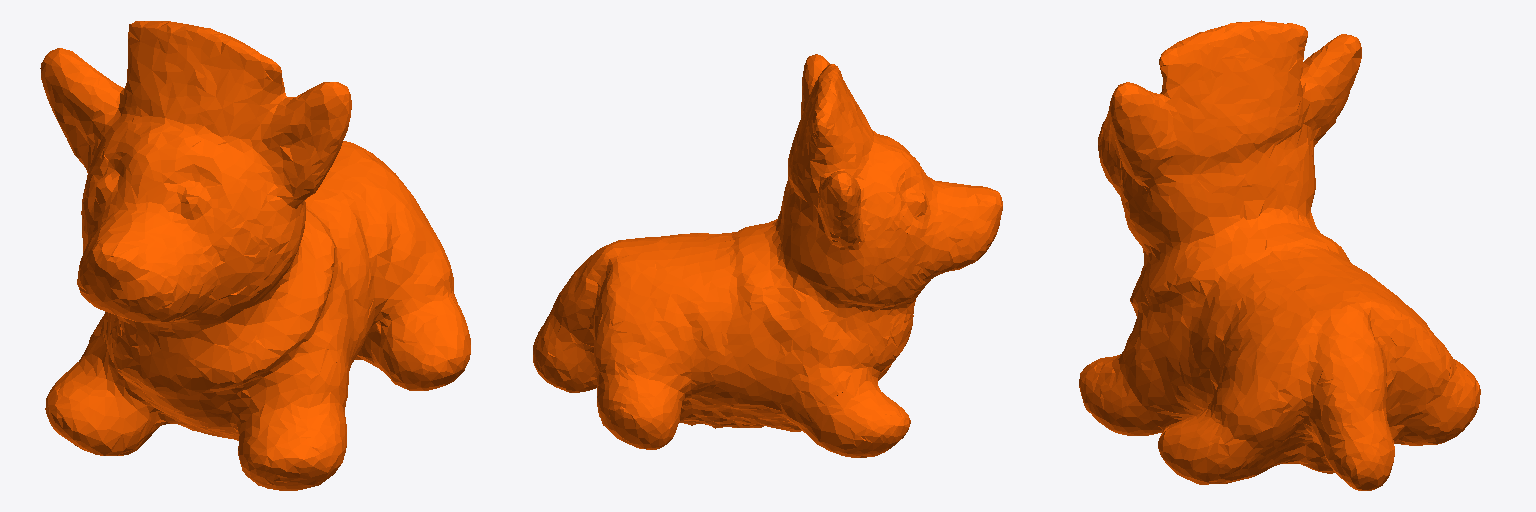
URDF robot description (plush_toy_of_a_corgi_nurse_1step_large):
<?xml version="1.0" ?>
<robot name="plush_toy_of_a_corgi_nurse_1step_large">
   <material name="obj_color">
      <color rgba="1.0 0.423529411765 0.0392156862745 1.0"/>
   </material>
   <link name="top">
      <inertial>
         <origin rpy="5.121196754117236e-05 0.0001002935678831563 0.0001108019187865737" xyz="-0.002624167978298707 -0.004261710834208724 -0.01058669988307594"/>
         <mass value="0.1389126919329817"/>
         <inertia ixx="7.775188894483088e-05" ixy="-1.881205482242938e-05" ixz="2.018438600262651e-05" iyy="0.0001000713763484889" iyz="1.092497412435425e-05" izz="8.448418891758256e-05"/>
      </inertial>
      <visual>
         <origin rpy="0 0 0" xyz="0 0 0"/>
         <geometry>
            <mesh filename="top_watertight_tiny.stl" scale="1 1 1"/>
         </geometry>
         <material name="obj_color"/>
      </visual>
      <collision>
         <origin rpy="0 0 0" xyz="0 0 0"/>
         <geometry>
            <mesh filename="top_watertight_tiny.obj" scale="1 1 1"/>
         </geometry>
      </collision>
   </link>
   <link name="bottom">
      <inertial>
         <origin rpy="1.633333333199431e-08 1.633333333199431e-08 1.633333333362855e-08" xyz="0.3464080000000008 0.3464080000000008 0.3464080000000008"/>
         <mass value="0.0009800000000000017"/>
         <inertia ixx="1.633333333253906e-08" ixy="5.447480642029219e-19" ixz="5.447480642029219e-19" iyy="1.633333333253906e-08" iyz="5.447480642029219e-19" izz="1.633333333253906e-08"/>
      </inertial>
      <visual>
         <origin rpy="0 0 0" xyz="0 0 0"/>
         <geometry>
            <mesh filename="bottom_watertight_tiny.stl" scale="1 1 1"/>
         </geometry>
         <material name="obj_color"/>
      </visual>
   </link>
   <link name="world"/>
   <joint name="world_to_base" type="fixed">
      <origin xyz="0 0 0"/>
      <axis xyz="0 0 0"/>
      <parent link="world"/>
      <child link="bottom"/>
   </joint>
   <joint name="rotation" type="revolute">
      <origin xyz="0 0 0"/>
      <axis xyz="0 0 -1"/>
      <parent link="bottom"/>
      <child link="top"/>
      <dynamics damping="1.0" friction="1.0"/>
      <limit effort="0.1" velocity="0.1" lower="0" upper="0.001"/>
   </joint>
</robot>

--- Render facts (derived) ---
3 views of the same robot in one strip: view 1: azimuth 30°, elevation 25°; view 2: azimuth 150°, elevation 25°; view 3: azimuth 270°, elevation 25° (orthographic).
Robot: plush_toy_of_a_corgi_nurse_1step_large — 3 links, 2 joints (1 revolute, 1 fixed); root link world; default pose: all joints at 0.
Links seen in each view (by area): view 1: top; view 2: top; view 3: top.
Link boxes in pixels (x1=…): top: x1=40, y1=21, x2=470, y2=490; top: x1=533, y1=54, x2=1002, y2=457; top: x1=1079, y1=20, x2=1480, y2=490.
Size in the robot's own frame: 0.1495 by 0.1261 by 0.1353 metres.
Meshes: 2 distinct files referenced, 1 mesh visuals loaded (1 binary STL); not drawn: 1 (reference not matched to a file when rendering).